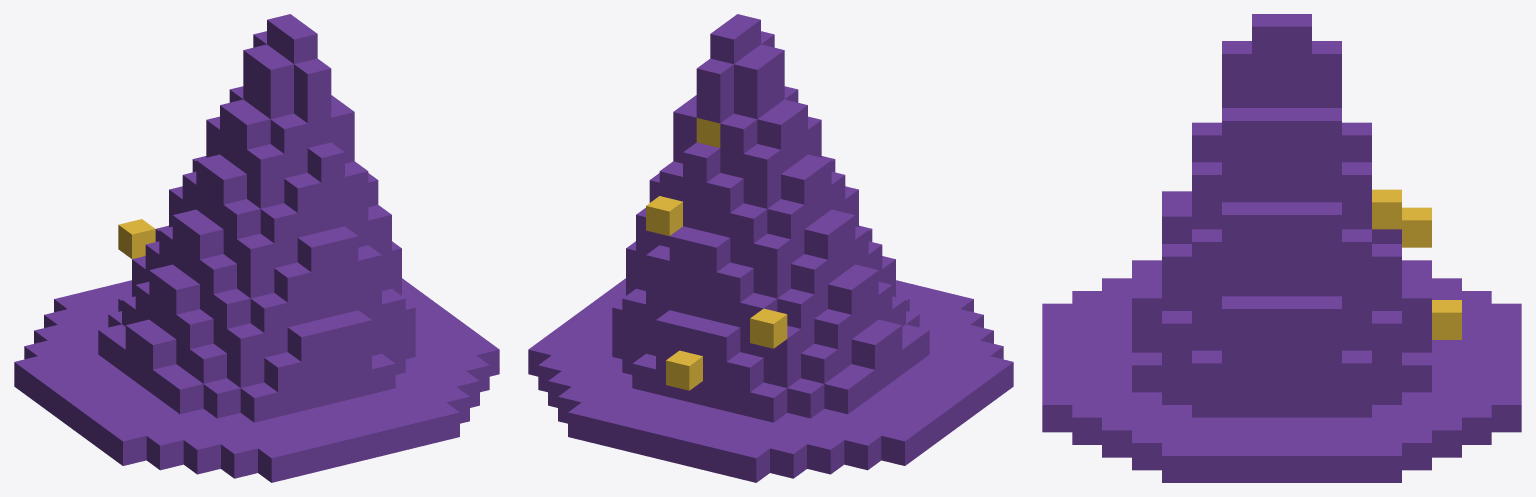
The model's file is wizard.glb.
The picture shows the model from 3 angles, left to right: view 1: azimuth 30°, elevation 25°; view 2: azimuth 150°, elevation 25°; view 3: azimuth 270°, elevation 25°; orthographic projection. The views are drawn at different scales.
Parts seen in each view (by area): view 1: wizard; view 2: wizard; view 3: wizard.
Boxes of the visible parts, x1,y1,x2,y2 form: wizard: [14, 14, 499, 482]; wizard: [528, 14, 1013, 482]; wizard: [1042, 14, 1521, 482].
Size of the model in its own units: 0.8 by 0.7 by 0.8.
1 material, 1 textured.
